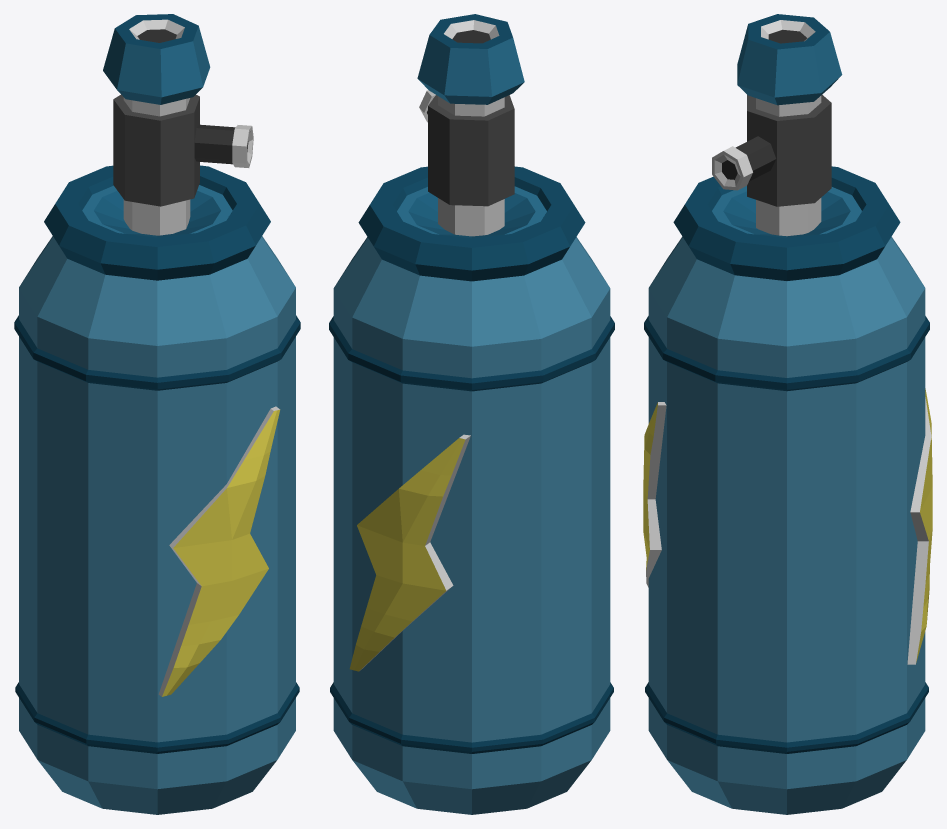
Rendered from EnergyBottle.fbx.
The picture shows the model from 3 angles, left to right: view 1: azimuth 30°, elevation 25°; view 2: azimuth 150°, elevation 25°; view 3: azimuth 270°, elevation 25°; orthographic projection.
Visible parts, largest first — view 1: Cylinder, Cube, Torus, Cylinder.001, Cylinder.002, Cylinder.003; view 2: Cylinder, Torus, Cube.001, Cylinder.001, Cylinder.002; view 3: Cylinder, Torus, Cylinder.001, Cylinder.002, Cube.001, Cube, Cylinder.003.
Part boxes in pixels (bbox=[...]): Cylinder: bbox=[14, 185, 300, 814]; Cube: bbox=[158, 406, 280, 696]; Torus: bbox=[44, 165, 270, 280]; Cylinder.001: bbox=[103, 14, 210, 235]; Cylinder.002: bbox=[113, 94, 199, 206]; Cylinder.003: bbox=[194, 124, 253, 167]; Cylinder: bbox=[329, 186, 614, 814]; Torus: bbox=[358, 166, 585, 281]; Cube.001: bbox=[349, 434, 470, 671]; Cylinder.001: bbox=[417, 14, 524, 236]; Cylinder.002: bbox=[428, 95, 514, 206]; Cylinder: bbox=[644, 186, 929, 814]; Torus: bbox=[673, 166, 900, 280]; Cylinder.001: bbox=[737, 14, 842, 236]; Cylinder.002: bbox=[747, 94, 831, 206]; Cube.001: bbox=[907, 388, 932, 664]; Cube: bbox=[643, 402, 666, 587]; Cylinder.003: bbox=[712, 136, 775, 190].
Bounding box in the file's own units: 207 × 587 × 209.
Materials: 1 (1 with a texture image).
